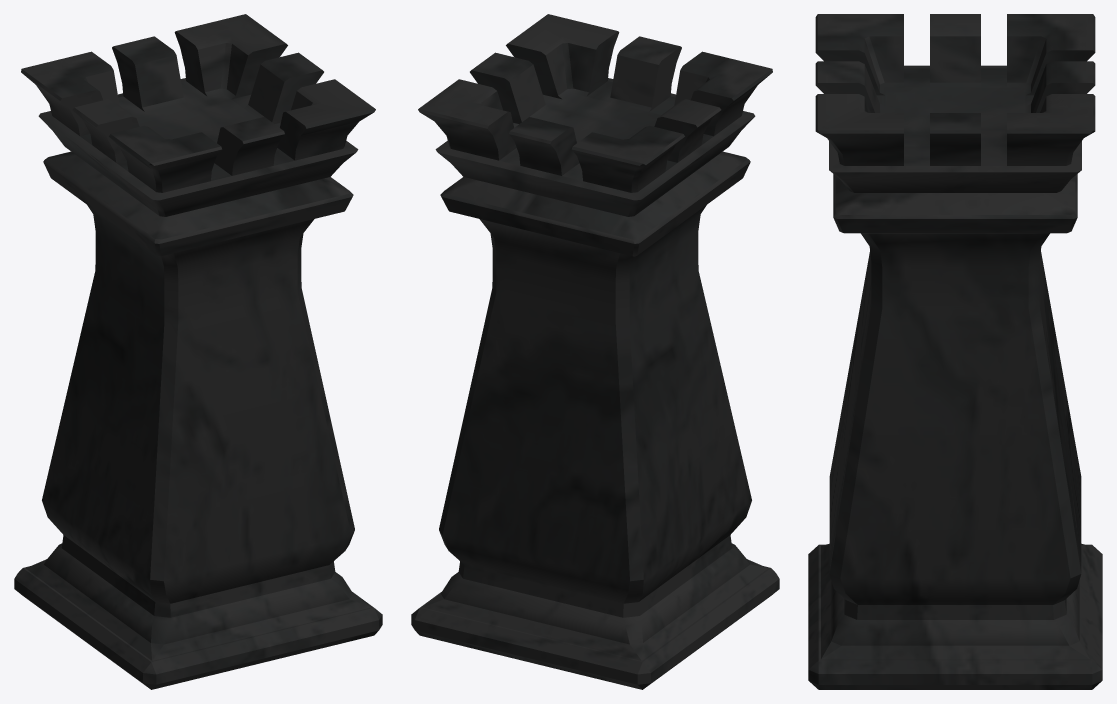
Rendered from chess_castle_01-black.glb.
The picture shows the model from 3 angles, left to right: view 1: azimuth 30°, elevation 25°; view 2: azimuth 150°, elevation 25°; view 3: azimuth 270°, elevation 25°; orthographic projection. The views are drawn at different scales.
Visible parts, largest first — view 1: castle_02, castle_01.001; view 2: castle_02, castle_01.001; view 3: castle_02, castle_01.001.
Boxes of the visible parts, x1=… form: castle_02: x1=14, y1=205, x2=382, y2=689; castle_01.001: x1=21, y1=14, x2=375, y2=256; castle_02: x1=411, y1=205, x2=779, y2=689; castle_01.001: x1=418, y1=14, x2=772, y2=256; castle_02: x1=808, y1=233, x2=1102, y2=689; castle_01.001: x1=815, y1=14, x2=1095, y2=233.
Size of the model in its own units: 0.5712 by 1.2 by 0.5712.
2 materials, 2 textured.
